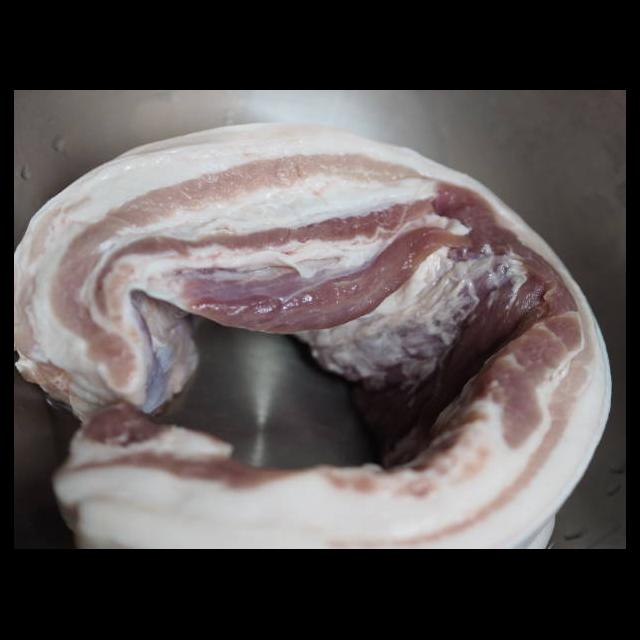pork: (14, 118, 617, 550)
